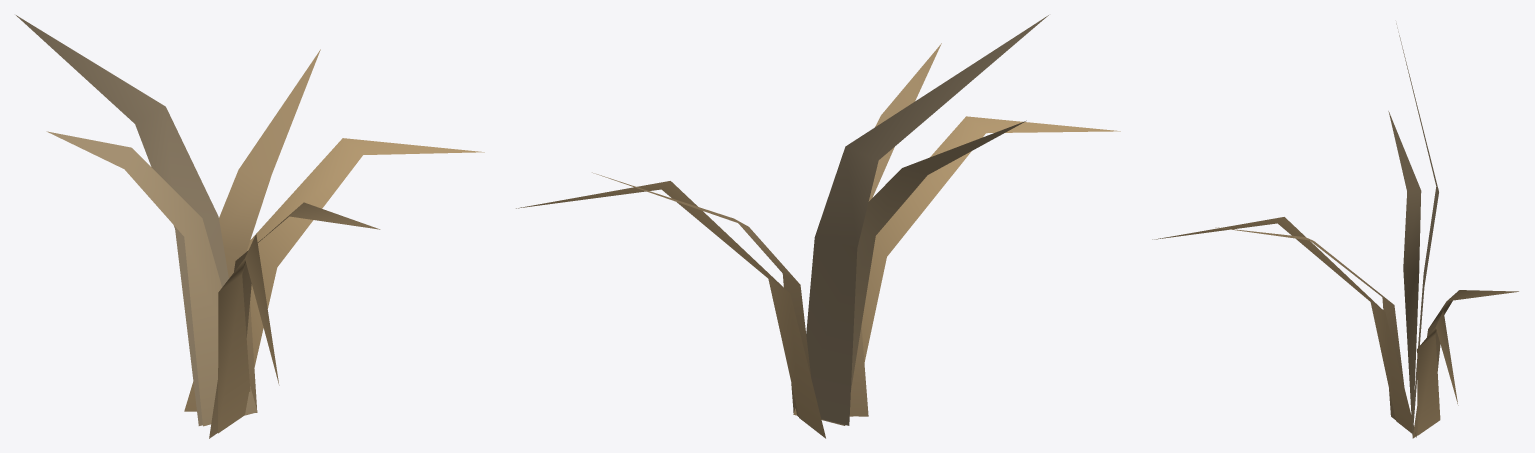
File: Grass_e_TwoS_02.fbx
3 views of the same model, side by side, from view 1: azimuth 30°, elevation 25°; view 2: azimuth 150°, elevation 25°; view 3: azimuth 270°, elevation 25° (orthographic). The views are drawn at different scales.
Visible parts, largest first — view 1: Grass_e_TwoS_02; view 2: Grass_e_TwoS_02; view 3: Grass_e_TwoS_02.
Boxes of the visible parts, x1,y1,x2,y2 form: Grass_e_TwoS_02: (16,15,484,438); Grass_e_TwoS_02: (516,15,1120,438); Grass_e_TwoS_02: (1152,23,1518,438).
Bounding box in the file's own units: 57.11 × 49.81 × 49.64.
